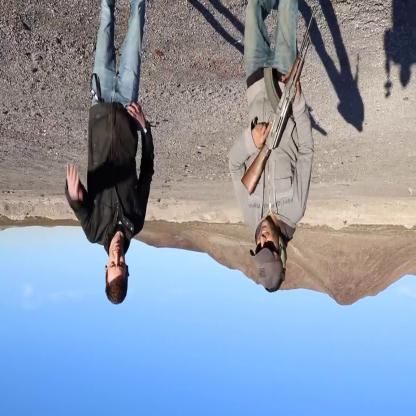long weapon: (238, 9, 328, 201)
